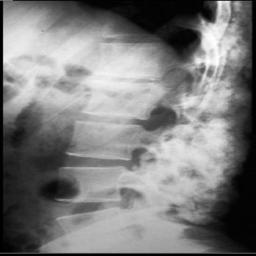cancer: (121, 3, 247, 226)
